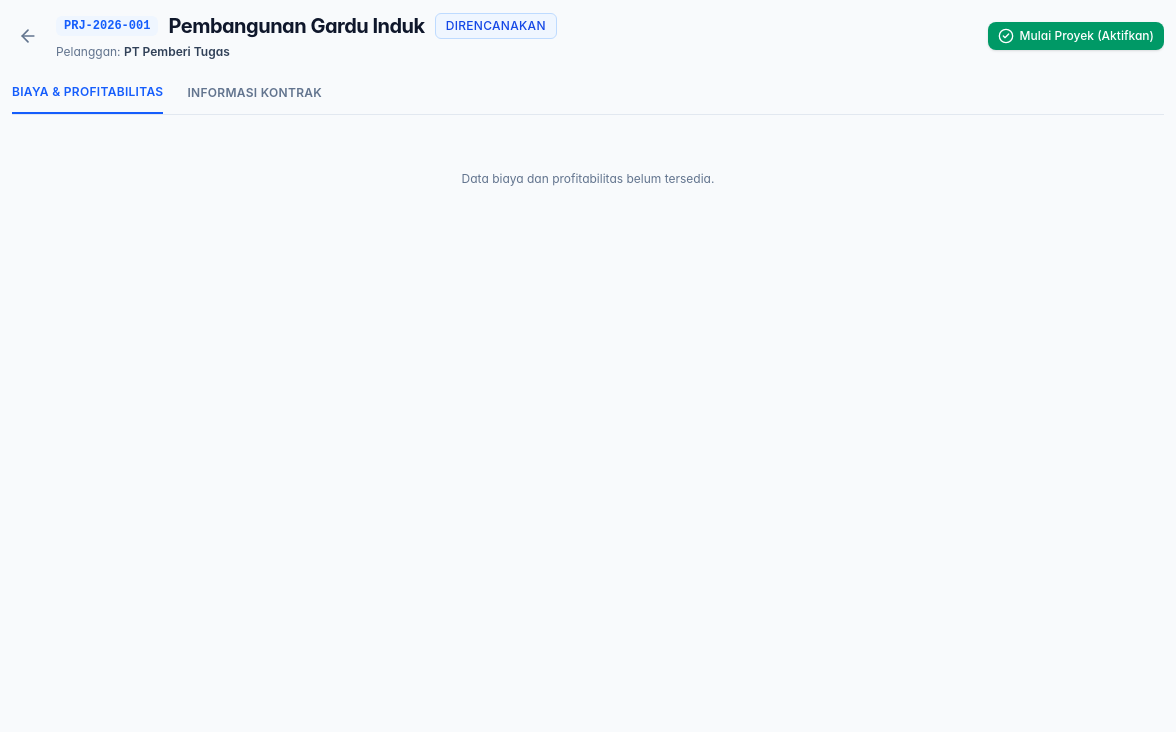
Test: Project Activation Workflow (PRJ-2026-001) › handles invalid lifecycle transition safely without blanking the page
Expected: the text "PRJ-2026-001" is shown, 56,16 -> 158,36
Click the button "Mulai Proyek (Aktifkan)" at coordinates (1076, 36), box 988,22 -> 1164,50
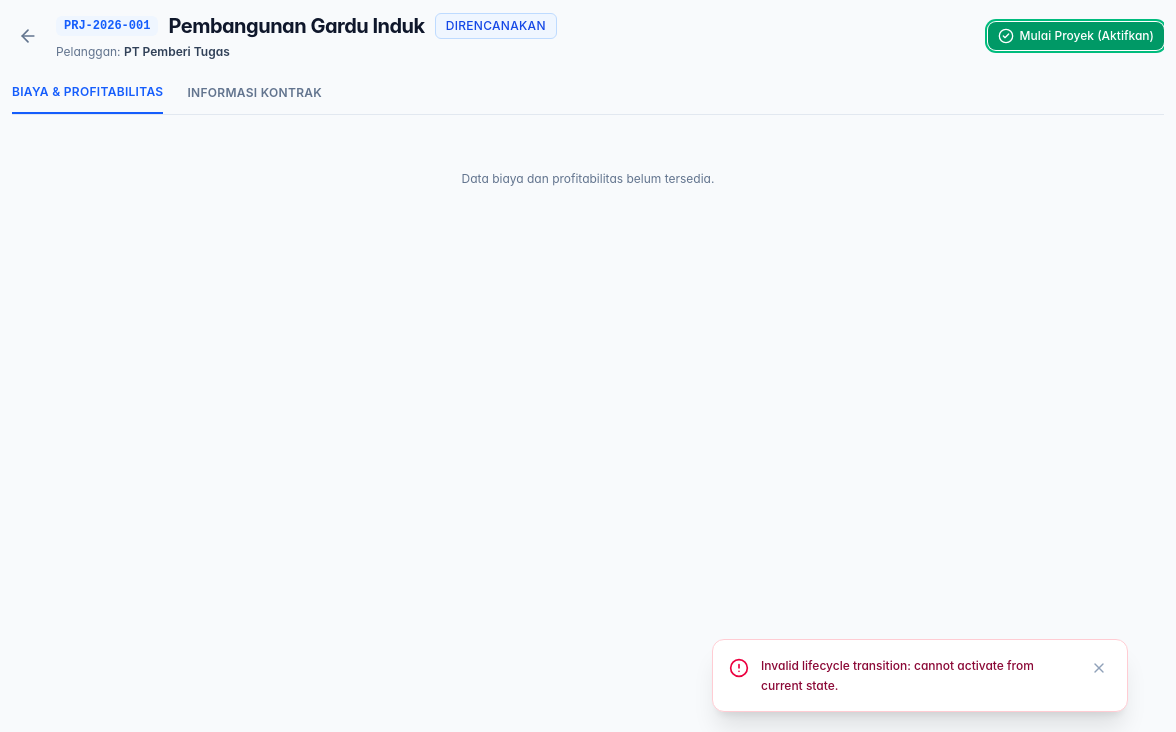
Expected: the text "PRJ-2026-001" is shown, 56,16 -> 158,36
Result: the text "Invalid lifecycle transition: cannot activate from current state." is shown at 761,656 -> 1075,695
